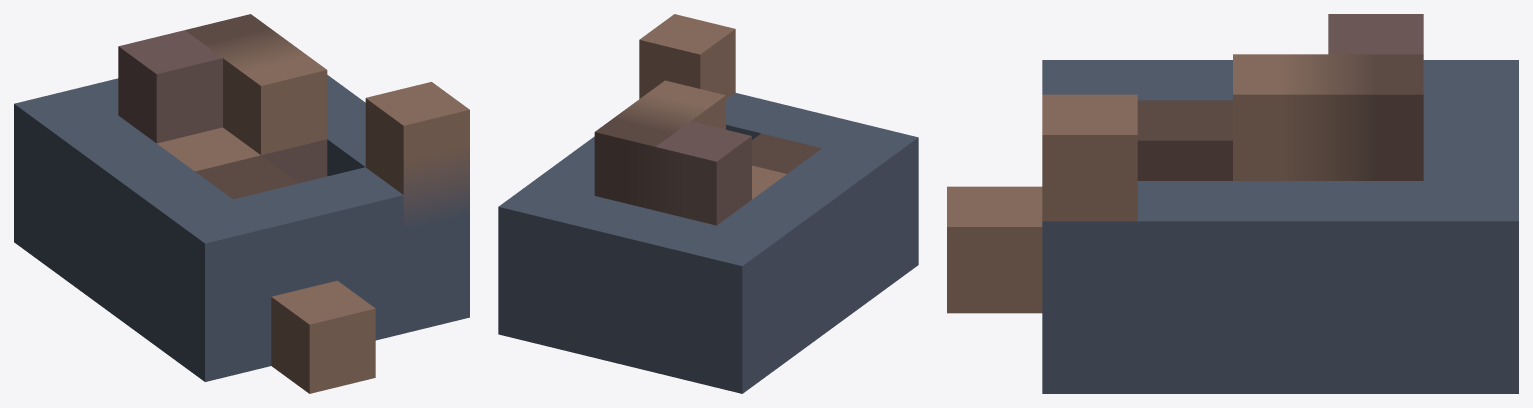
File: Market_Items-1.fbx
3 renders of one model, left to right at view 1: azimuth 30°, elevation 25°; view 2: azimuth 150°, elevation 25°; view 3: azimuth 270°, elevation 25°, orthographic. The views are drawn at different scales.
Visible parts, largest first — view 1: Market_Items_1; view 2: Market_Items_1; view 3: Market_Items_1.
Part boxes in pixels (<box>): Market_Items_1: <box>14,14,469,393</box>; Market_Items_1: <box>498,14,918,393</box>; Market_Items_1: <box>947,14,1518,393</box>.
Size of the model in its own units: 40 by 30 by 60.
1 material, 1 textured.
